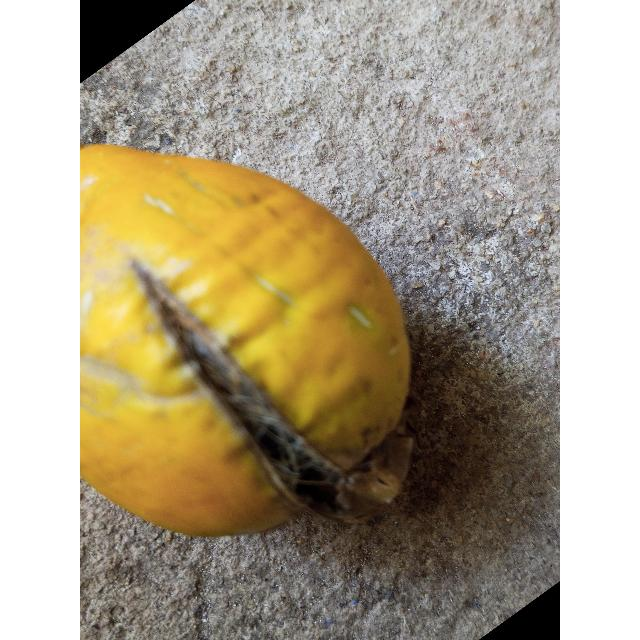damaged: (80, 144, 413, 536)
